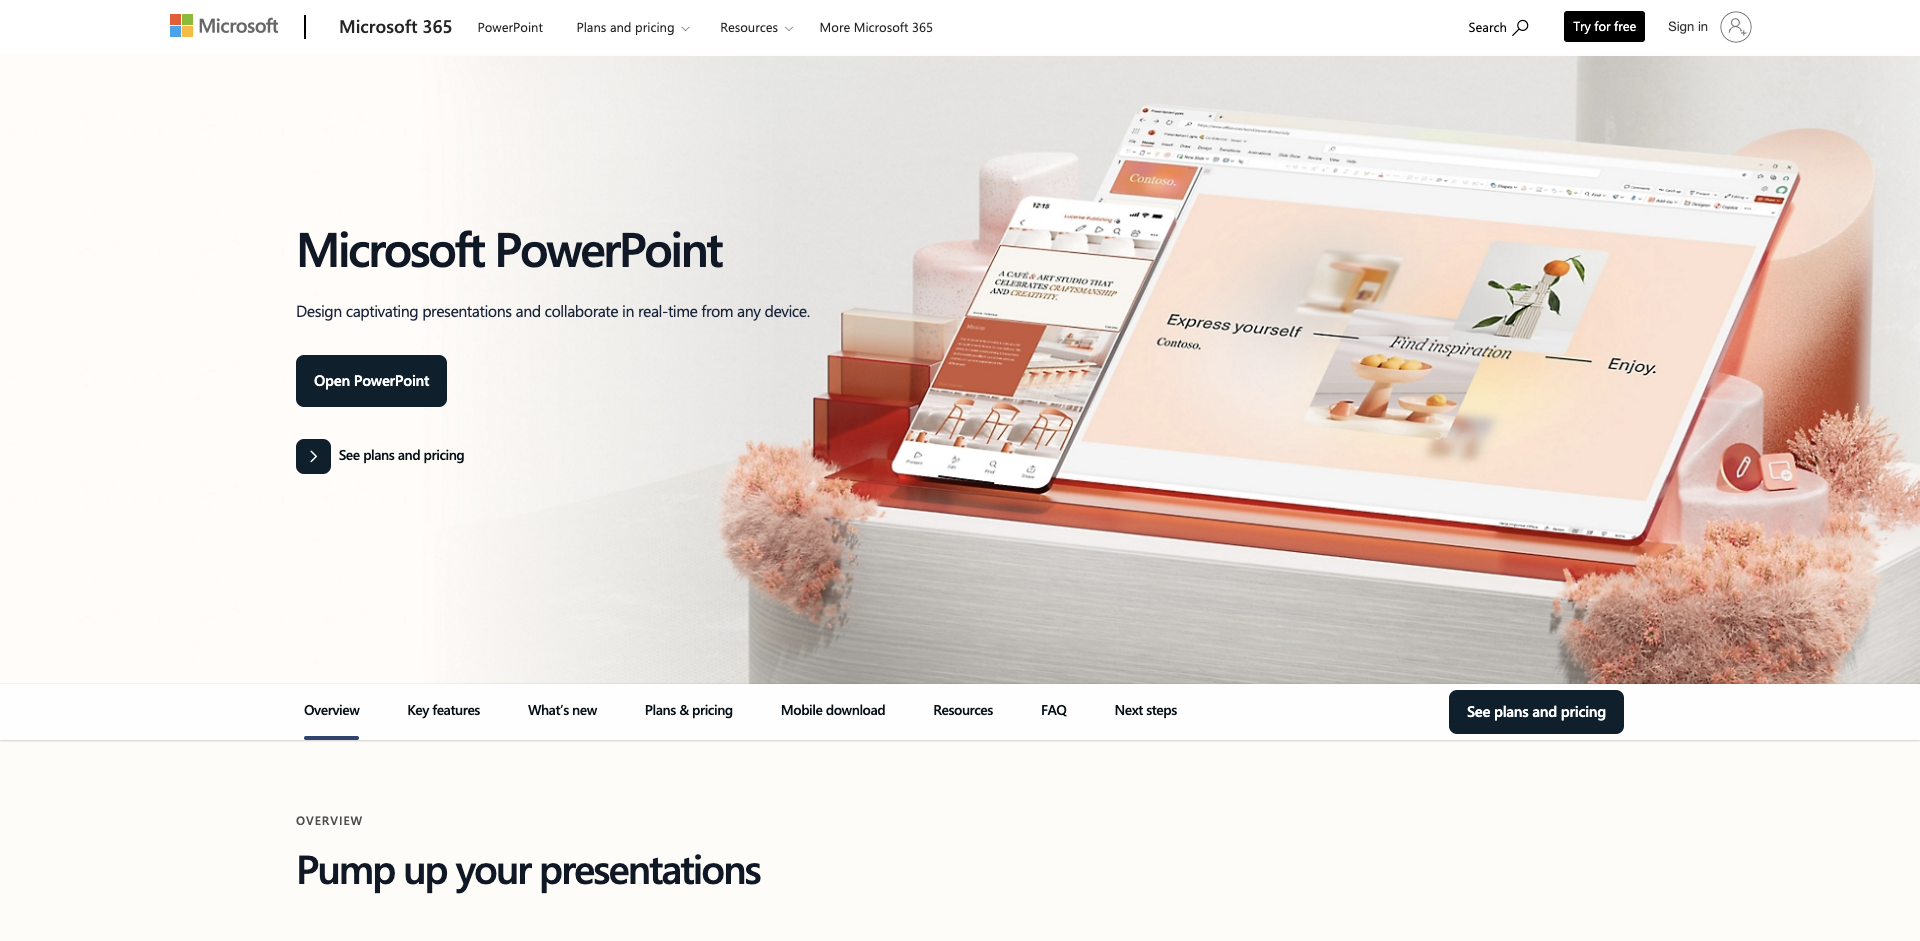button: (296, 354, 857, 407), (296, 354, 857, 407), (296, 439, 857, 473), (296, 354, 447, 407), (1449, 690, 1624, 734), (1449, 690, 1624, 734), (560, 1, 705, 51), (703, 1, 809, 51), (1460, 2, 1537, 48), (1467, 700, 1607, 724), (449, 924, 647, 941), (836, 924, 1026, 941), (655, 924, 829, 941), (313, 369, 429, 392), (296, 924, 441, 941), (296, 439, 331, 473)
dropdown: (296, 684, 1417, 740), (296, 684, 1417, 740)
link: (160, 1, 298, 55), (329, 1, 463, 55), (811, 1, 942, 49), (296, 439, 464, 473), (1657, 2, 1760, 51), (469, 1, 552, 49), (781, 700, 885, 736), (645, 700, 732, 736), (408, 700, 480, 736), (528, 700, 596, 736), (1564, 11, 1646, 42), (1114, 700, 1177, 736), (933, 700, 993, 736), (304, 700, 359, 736), (1041, 700, 1067, 736)
menu_item: (560, 0, 699, 51), (807, 0, 947, 49), (703, 0, 803, 51), (464, 0, 556, 49), (1554, 0, 1656, 43)
